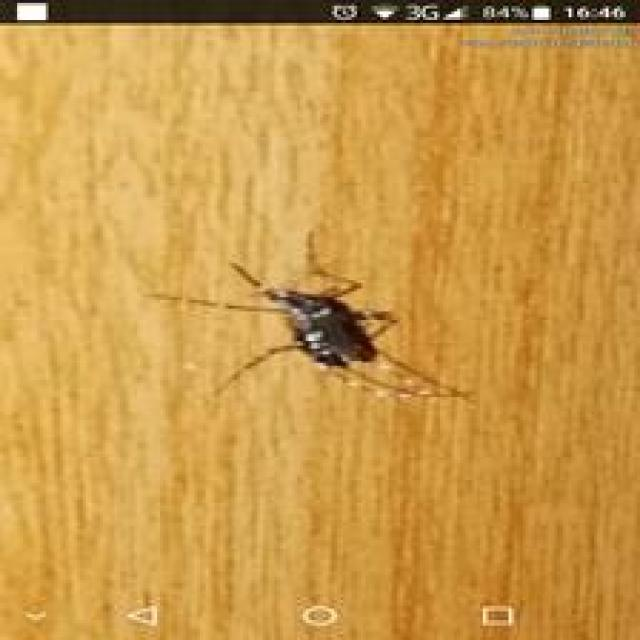Aedes albopictus: (143, 228, 477, 406)
